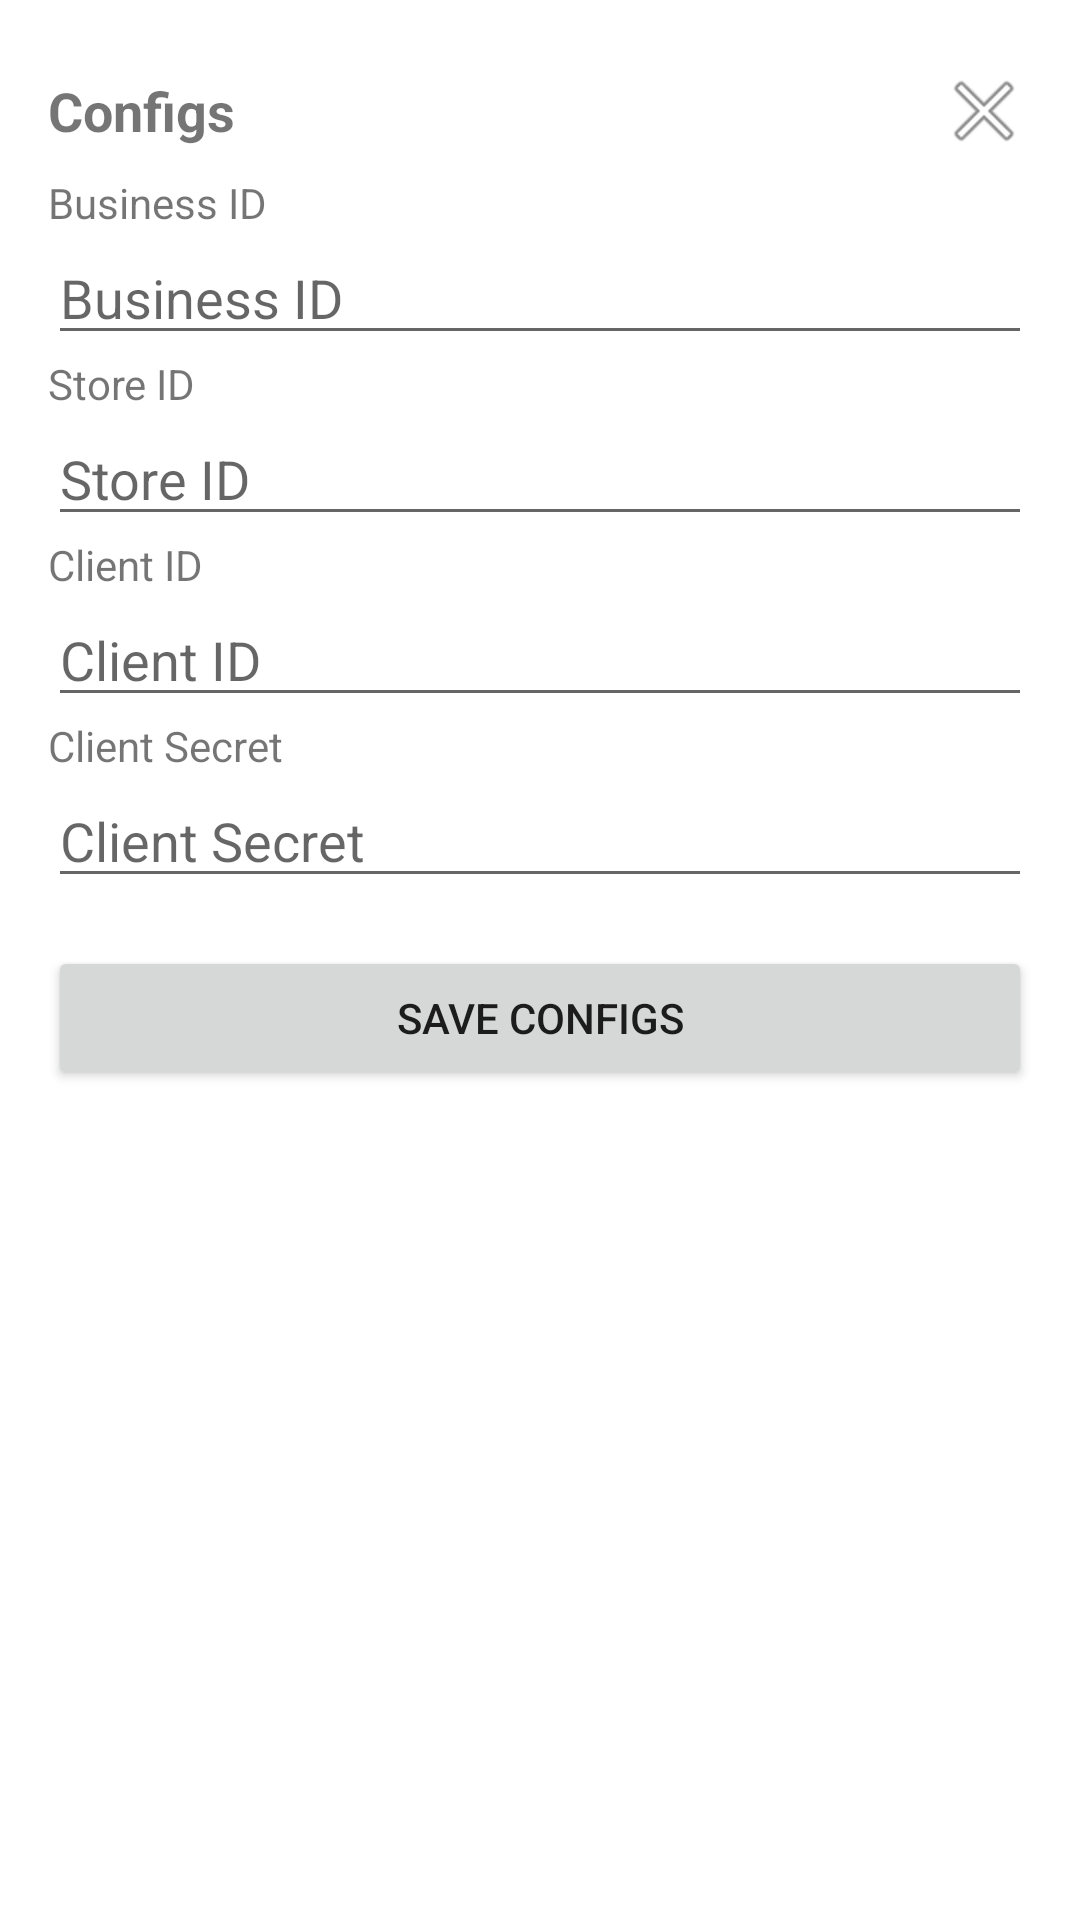

Point at icon controls on the screen. Image size 1080×1920, points as (x=x, y=y).
close clear cancel: (x=984, y=111)
